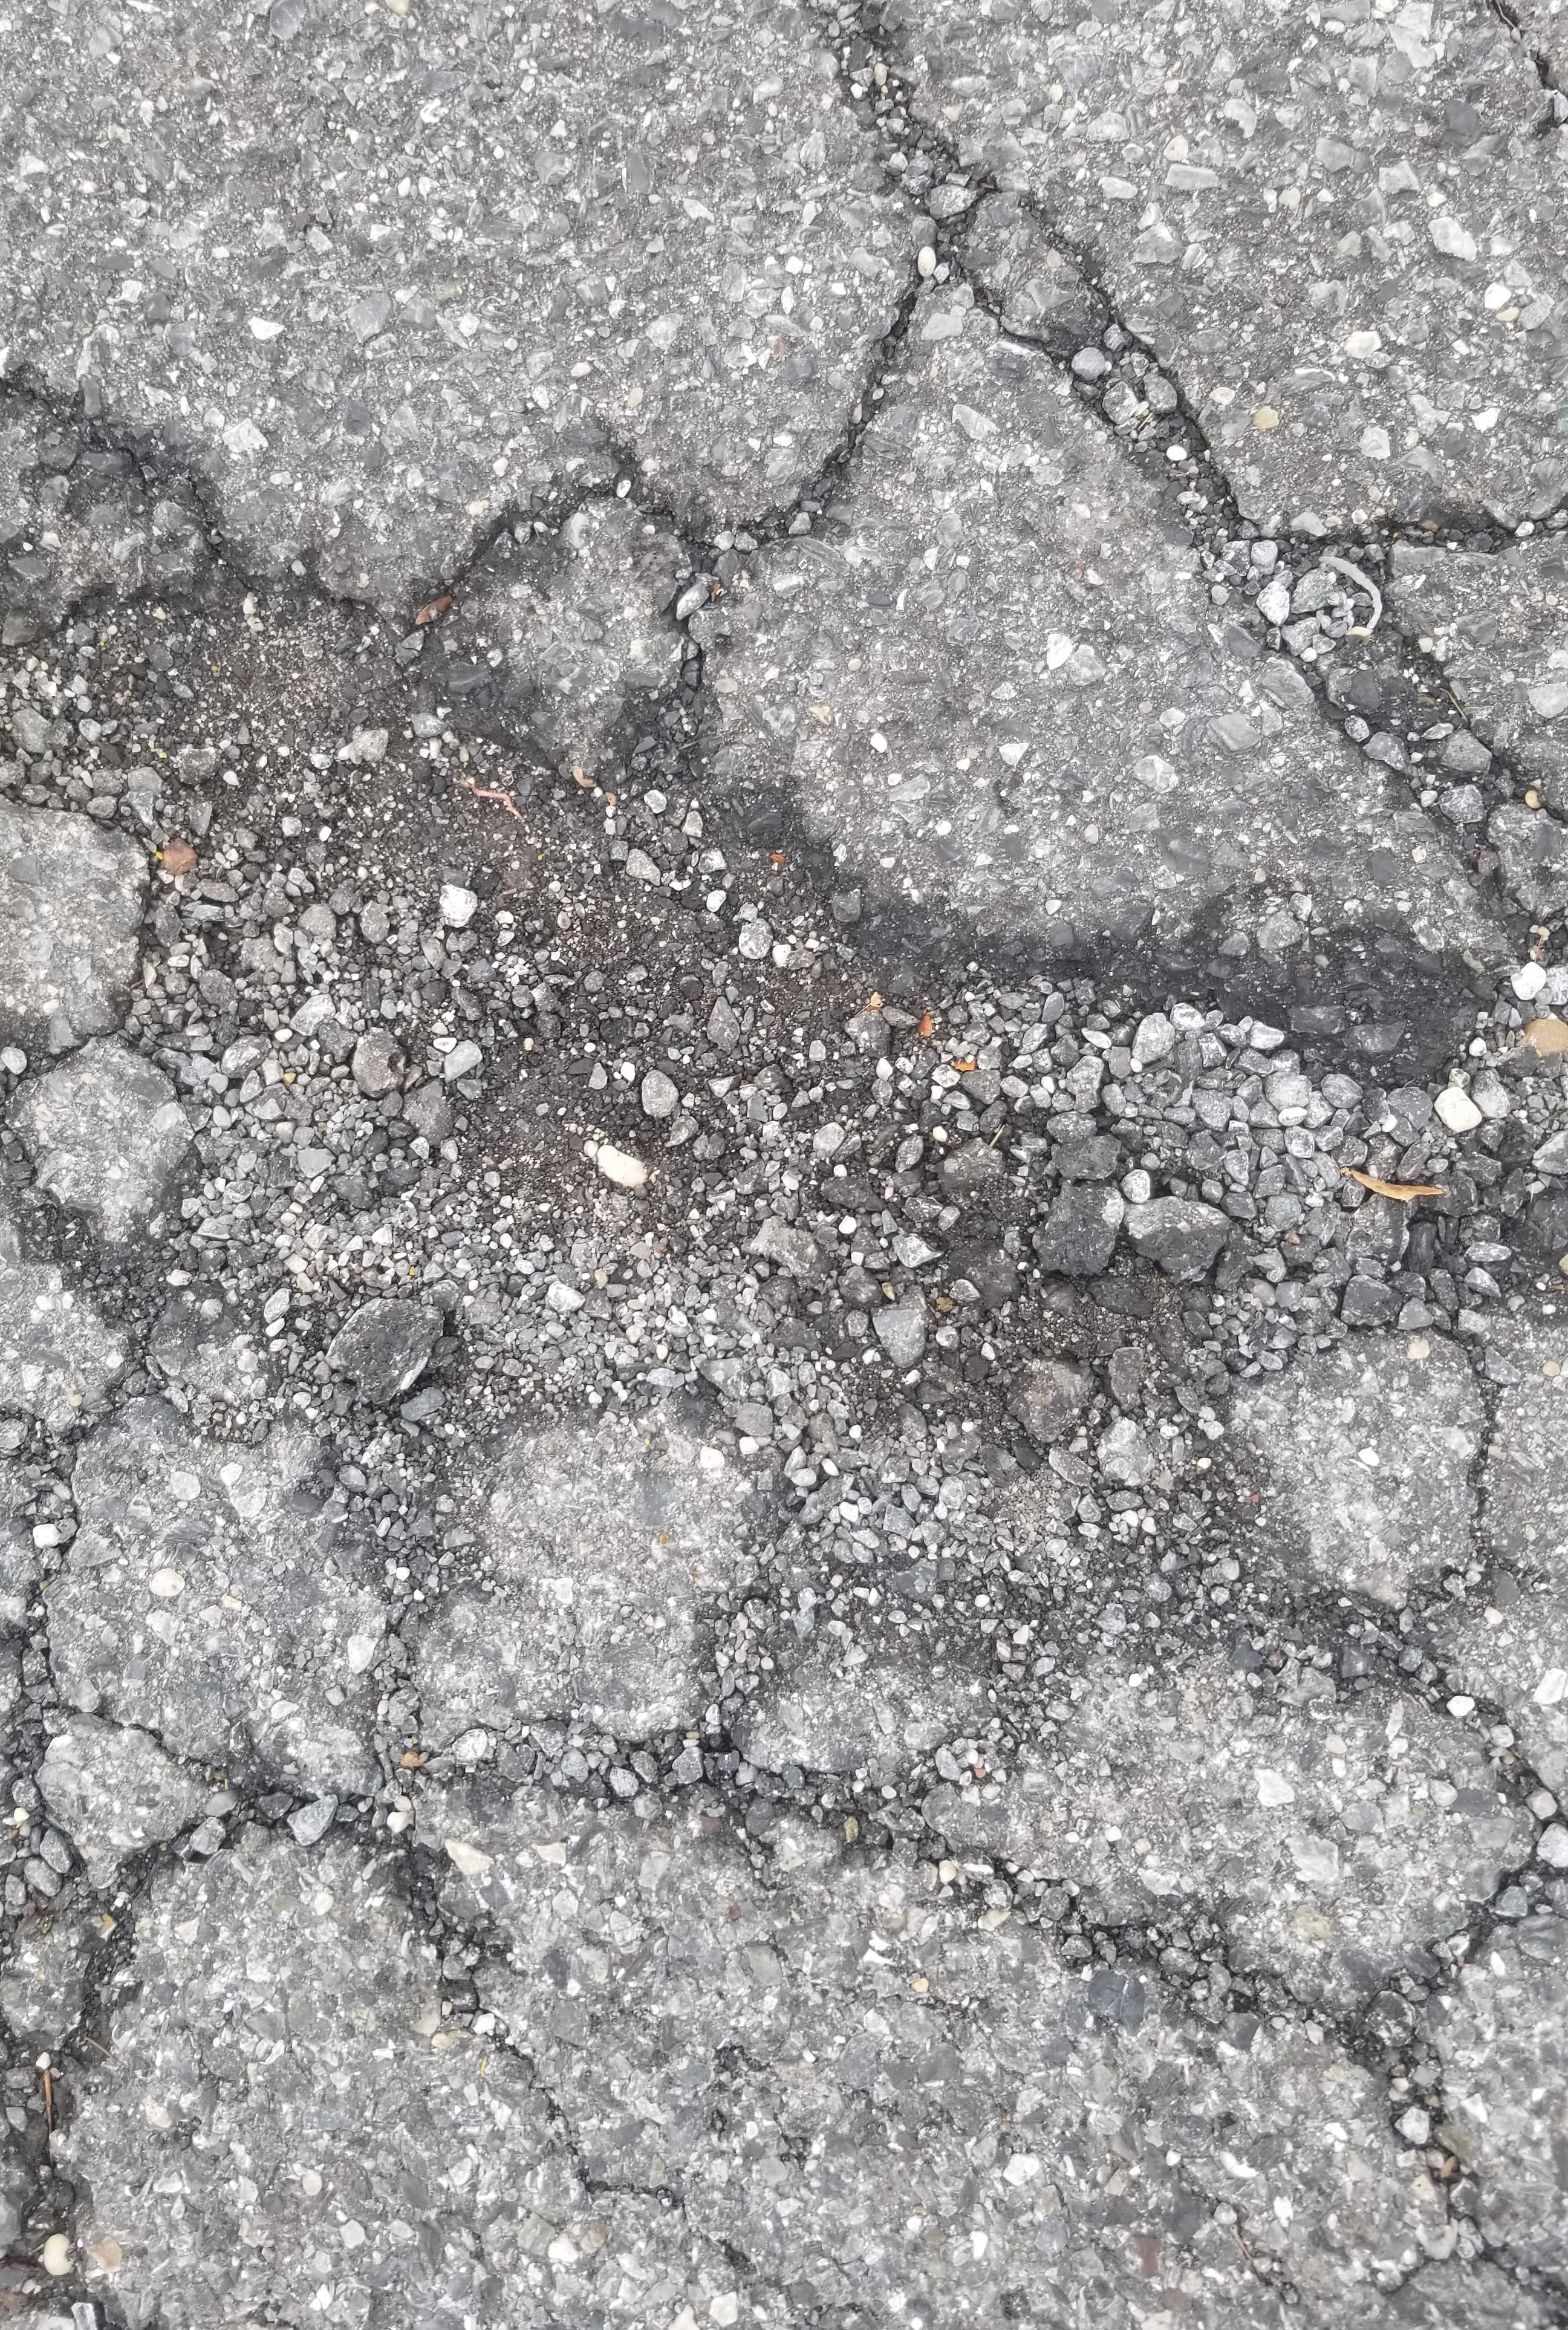alligator-crack: (5, 30, 1568, 2330)
